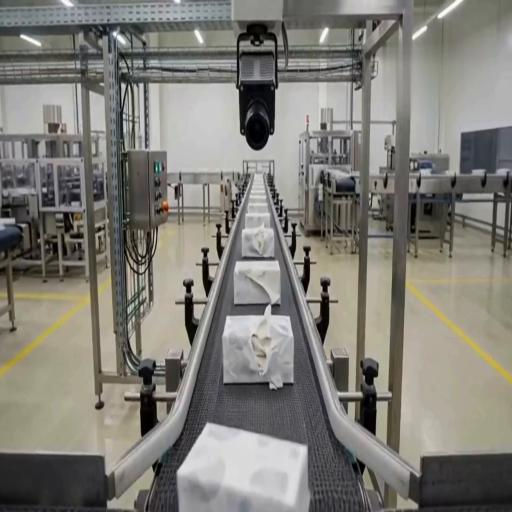defective: (222, 308, 300, 390), (233, 260, 282, 307), (241, 223, 275, 259)
good: (178, 421, 306, 512), (0, 0, 67, 45), (244, 212, 273, 230), (246, 179, 269, 199), (247, 202, 269, 215), (0, 0, 13, 9), (0, 0, 11, 7), (0, 0, 9, 5), (0, 0, 7, 5)
